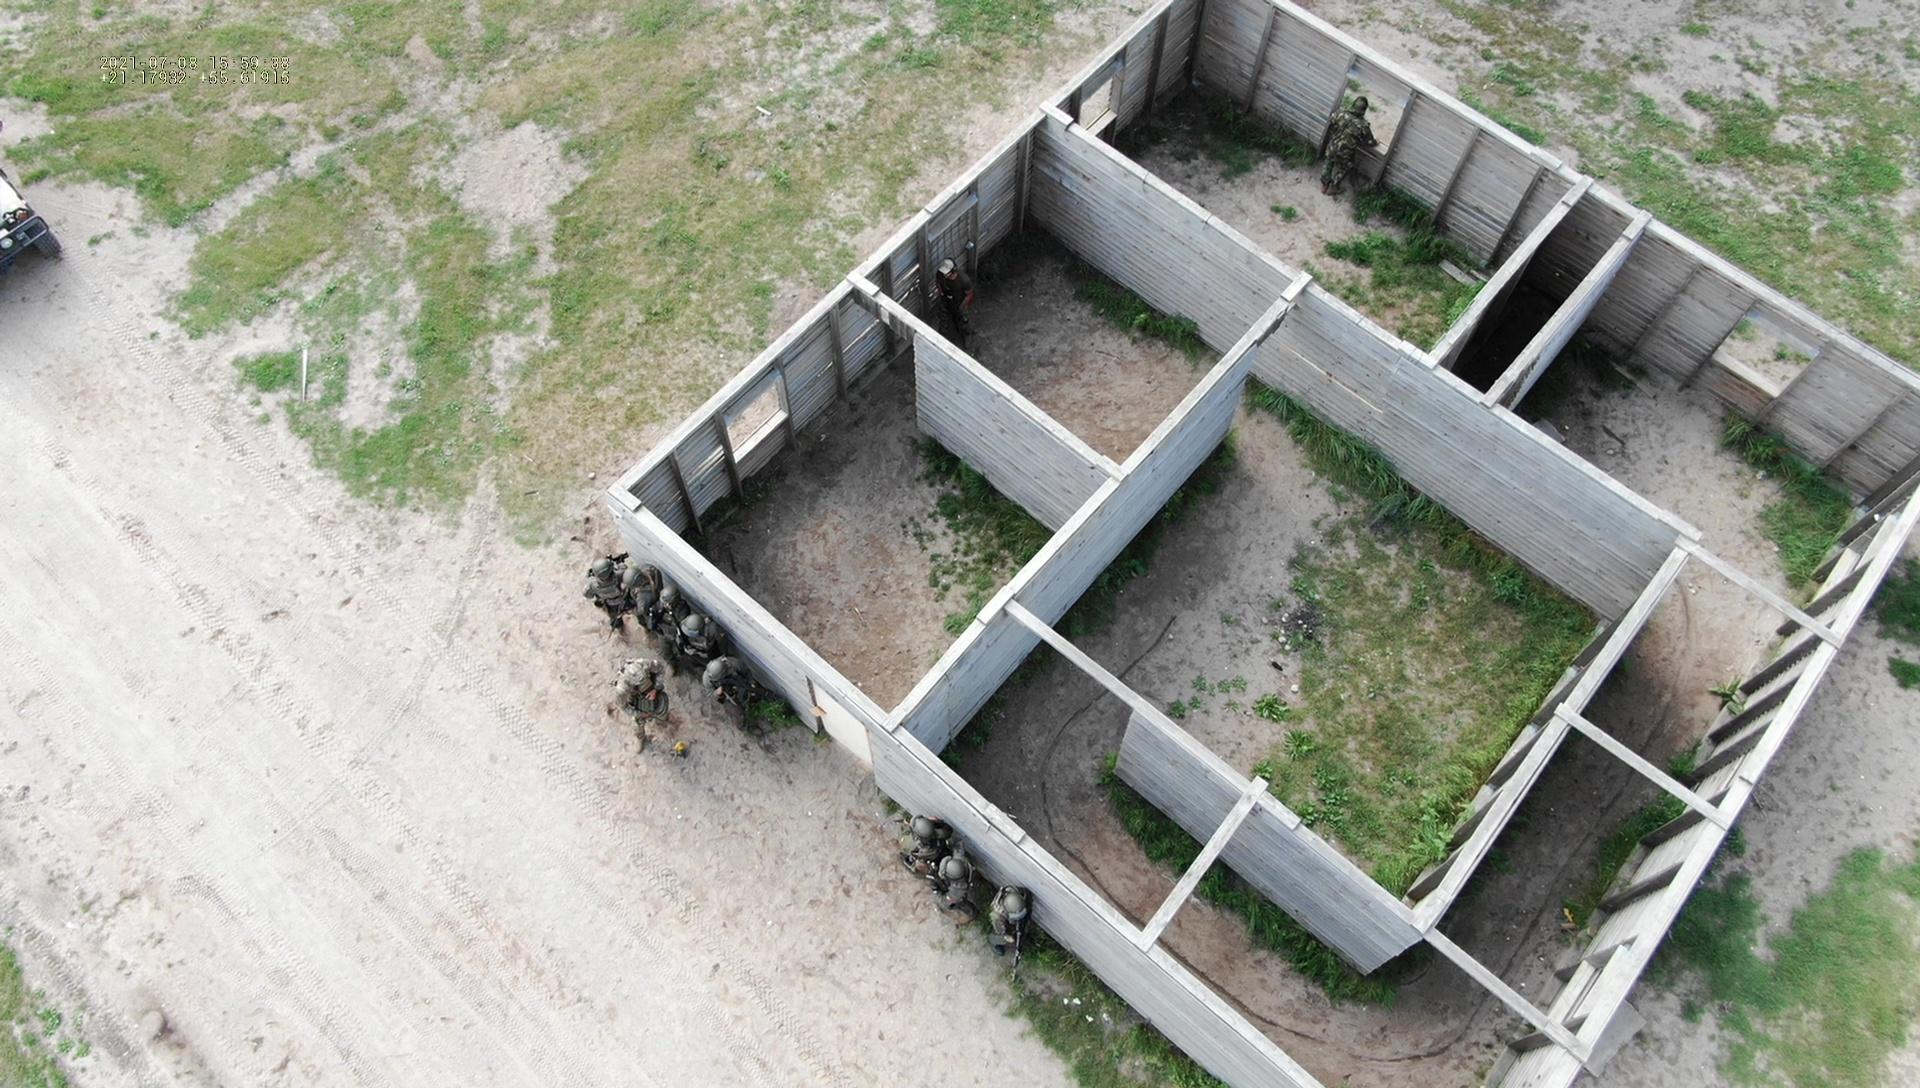Soldier: (597, 655, 702, 768), (1311, 106, 1400, 202), (684, 646, 758, 731), (1007, 878, 1054, 984), (934, 248, 980, 352), (899, 810, 957, 889), (593, 549, 654, 624), (649, 597, 719, 655), (616, 566, 688, 621), (953, 852, 994, 927), (684, 612, 738, 662)
